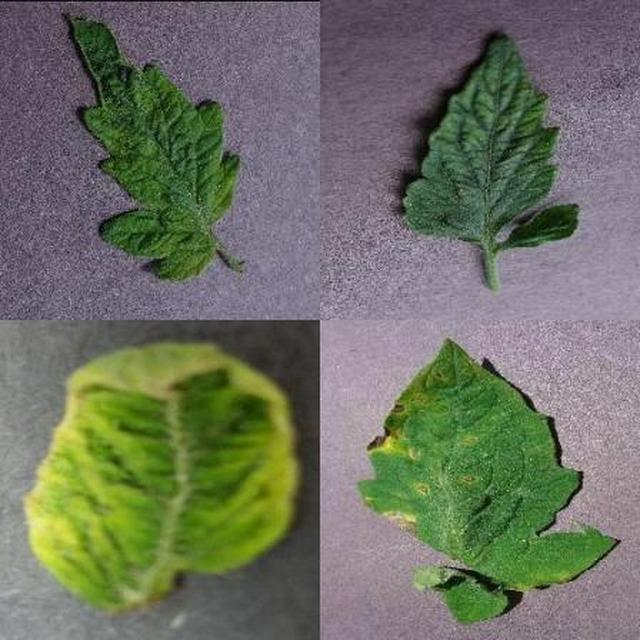Mosaic Virus Leaf: (221, 203, 640, 640)
